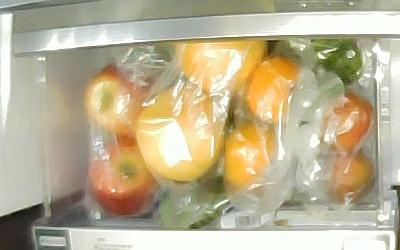apple_vinyl: (89, 138, 156, 215), (84, 67, 152, 139)
grapefruit_vinyl: (135, 85, 224, 181), (173, 40, 268, 95)
persimmon_vinyl: (247, 56, 300, 124), (223, 124, 275, 187)
prune_vinyl: (324, 93, 372, 152), (328, 153, 374, 204)
